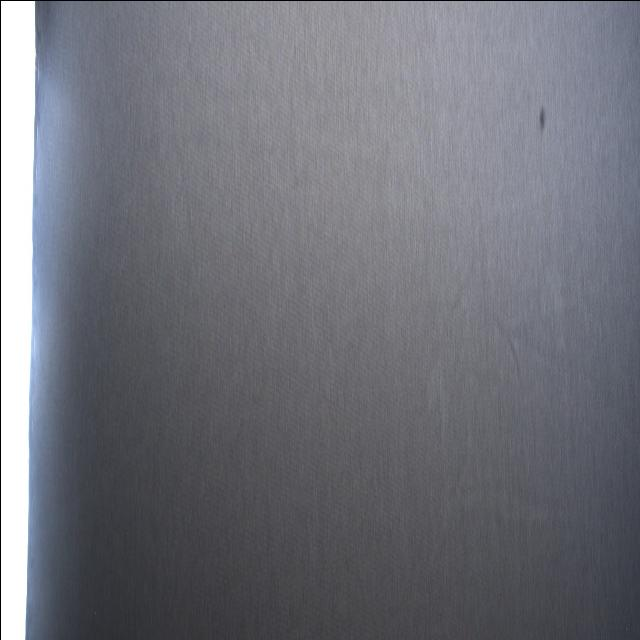crease: (484, 282, 640, 451), (418, 230, 479, 423), (162, 61, 205, 286), (444, 465, 559, 549)
